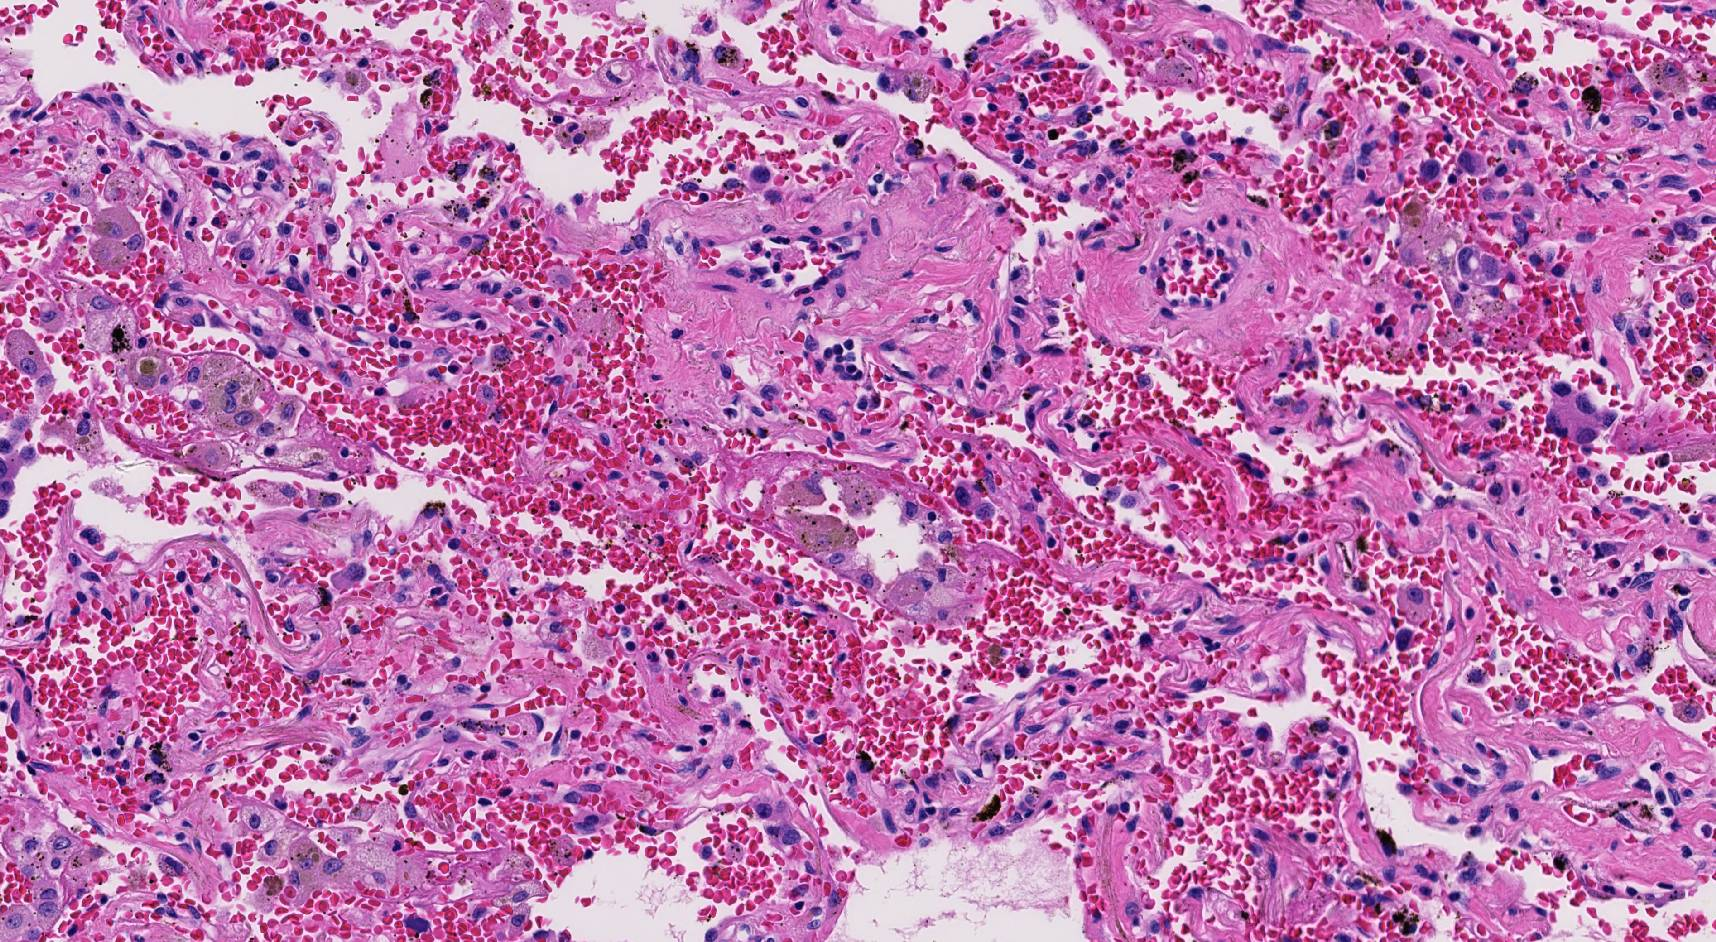stas: (1542, 380, 1618, 446)
